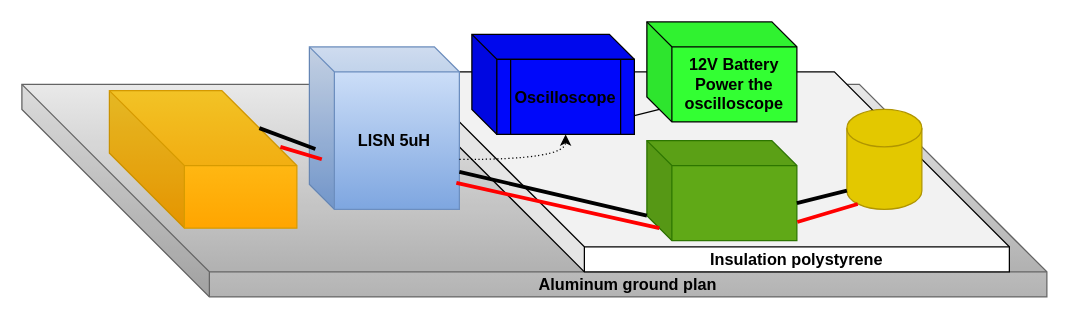
This 1069x319 diagram has some shape labels left out. Each missing label, with the centre of its shape:
27ohm load: [884,158]
DCDC: [721,190]
Power supply 380V 800W: [202,158]
